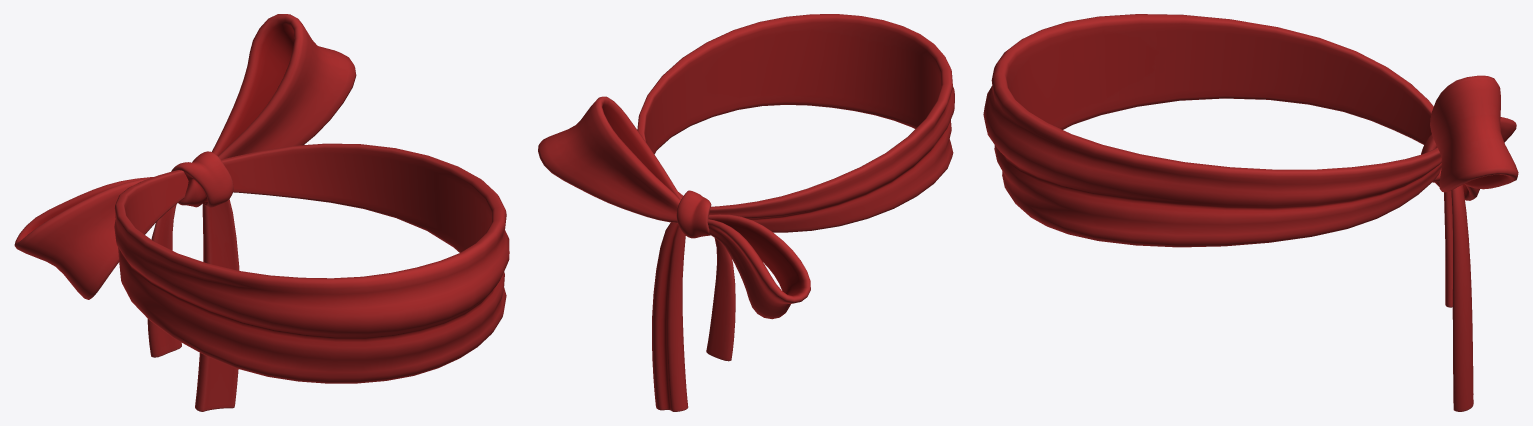
The model's file is red-headband.glb.
3 renders of one model, left to right at view 1: azimuth 30°, elevation 25°; view 2: azimuth 150°, elevation 25°; view 3: azimuth 270°, elevation 25°, orthographic. The views are drawn at different scales.
Parts seen in each view (by area): view 1: RED_HEADBAND; view 2: RED_HEADBAND; view 3: RED_HEADBAND.
Boxes of the visible parts, x1,y1,x2,y2 form: RED_HEADBAND: (14, 14, 509, 411); RED_HEADBAND: (538, 14, 954, 411); RED_HEADBAND: (983, 14, 1518, 411).
Bounding box in the file's own units: 0.2115 × 0.2228 × 0.2945.
1 material, 1 textured.
